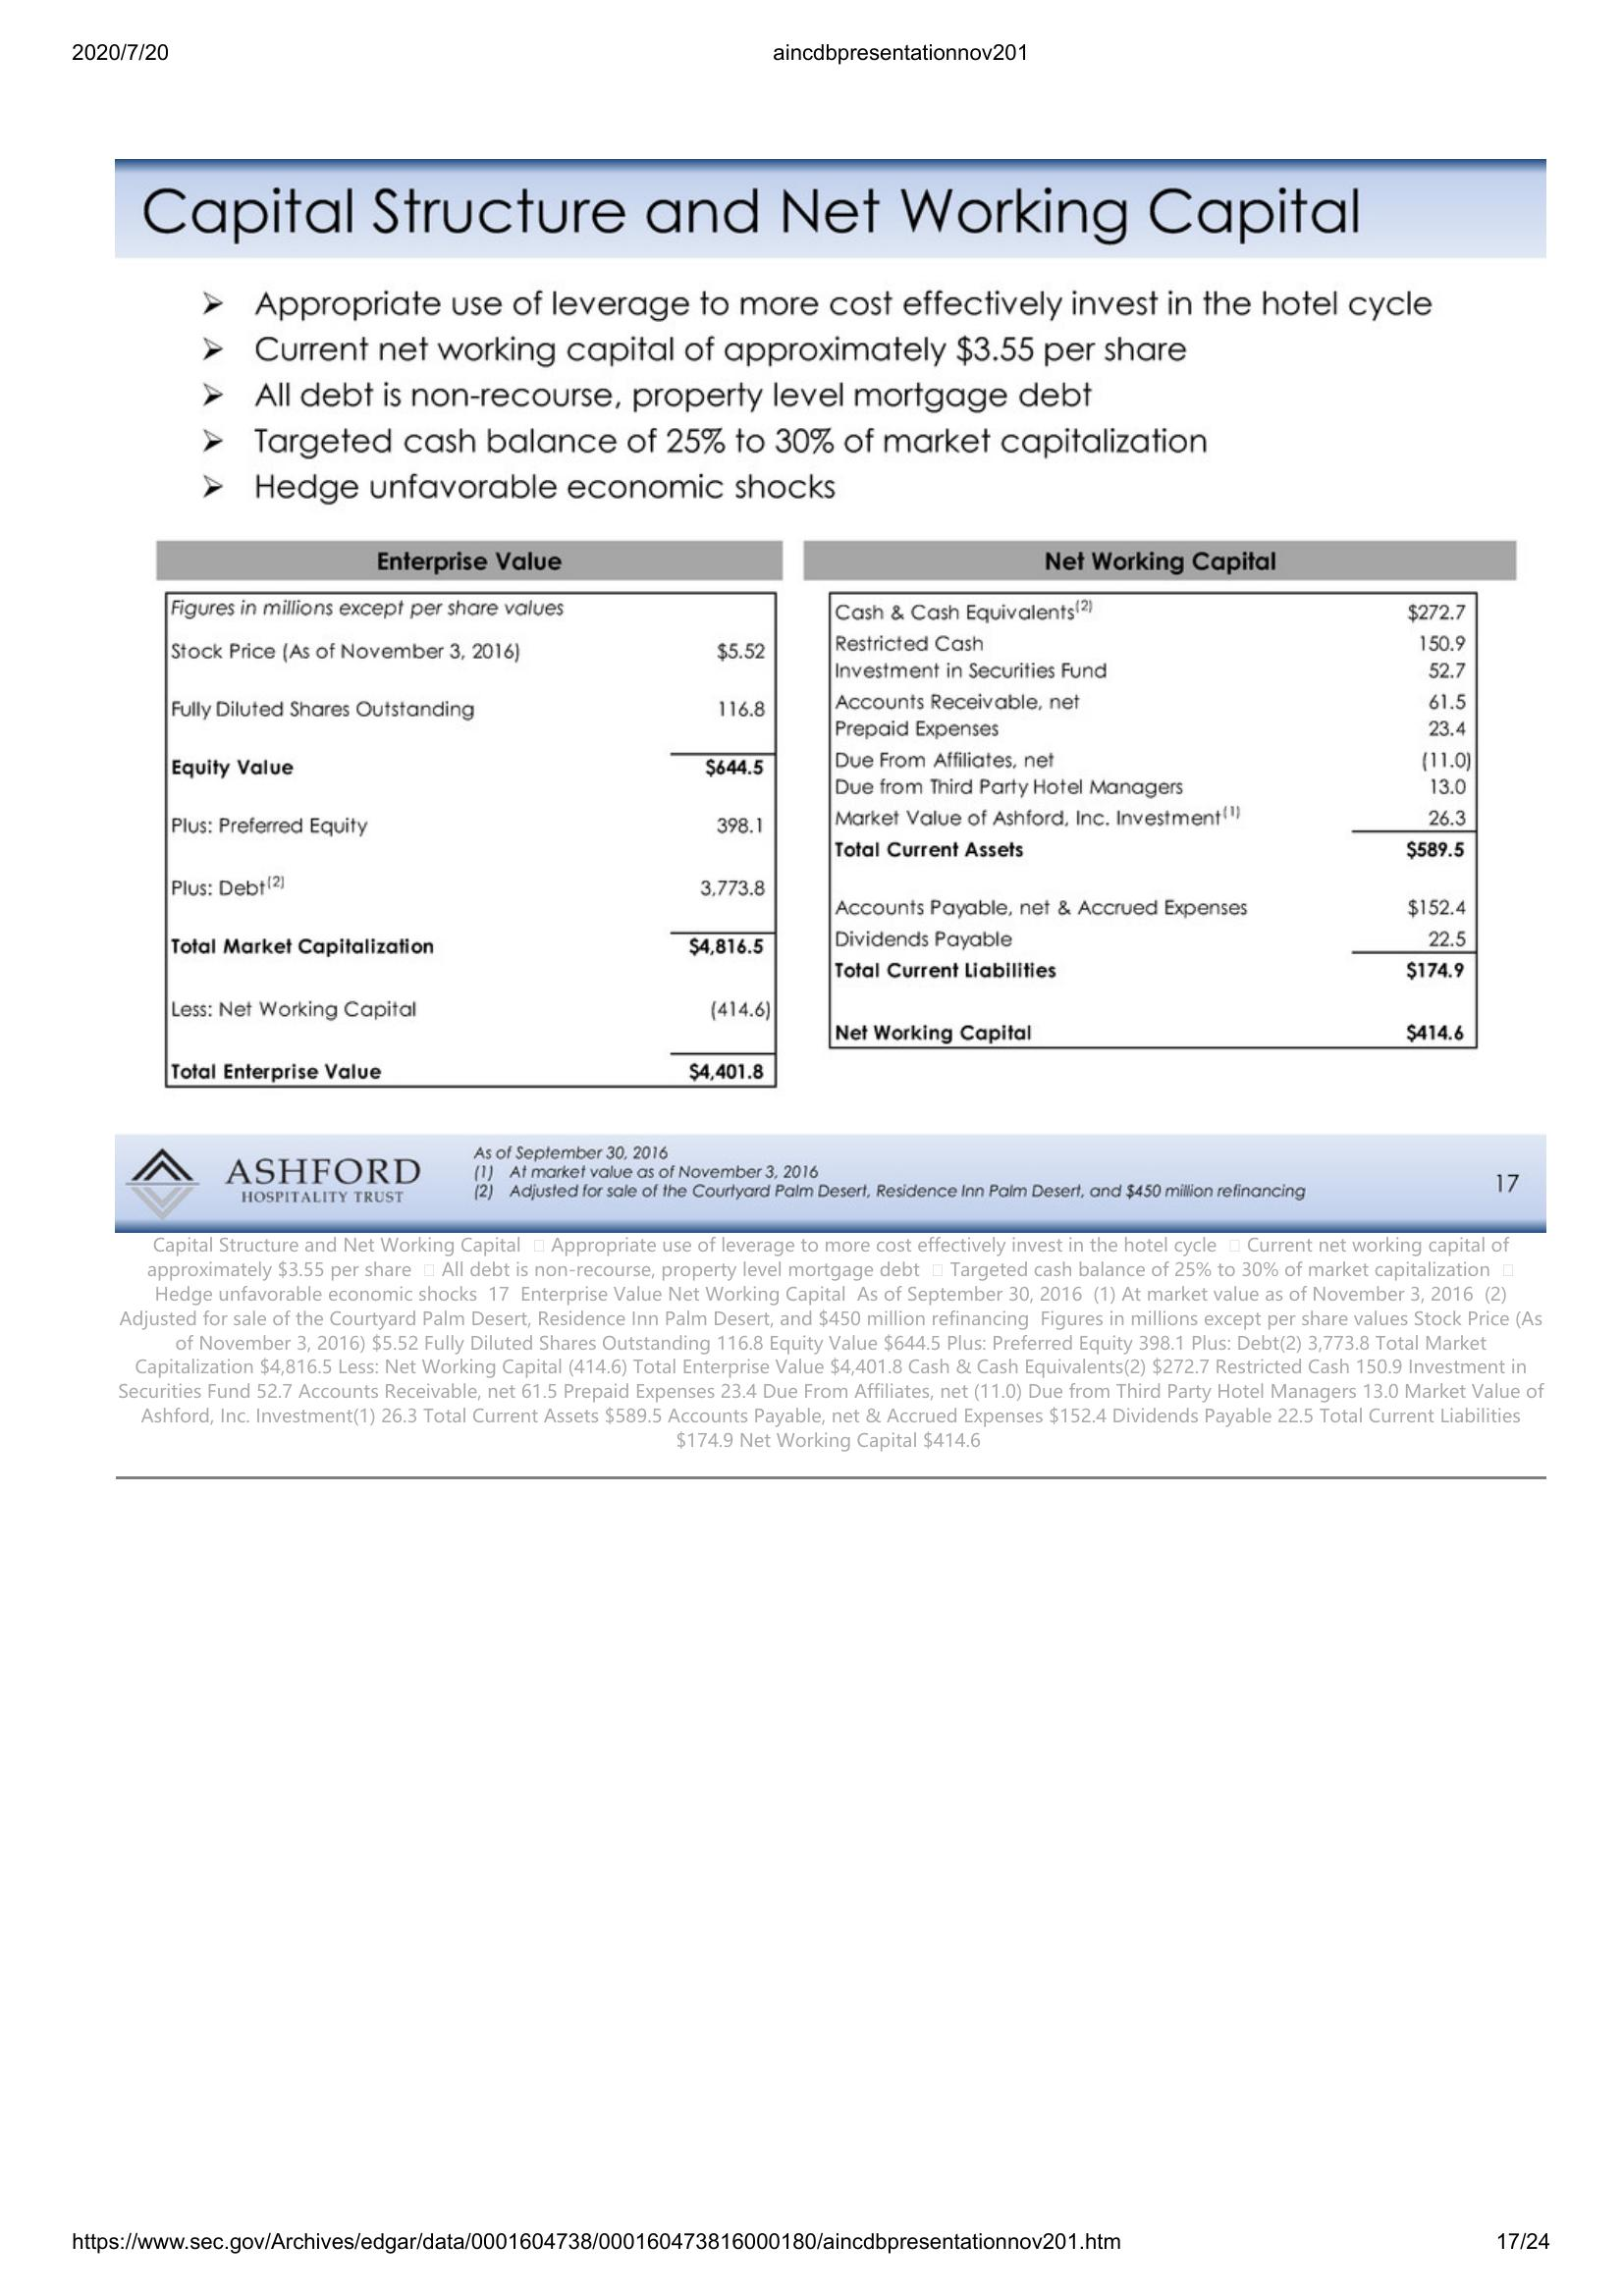table: (815, 578, 1490, 1055), (163, 583, 782, 1090)
